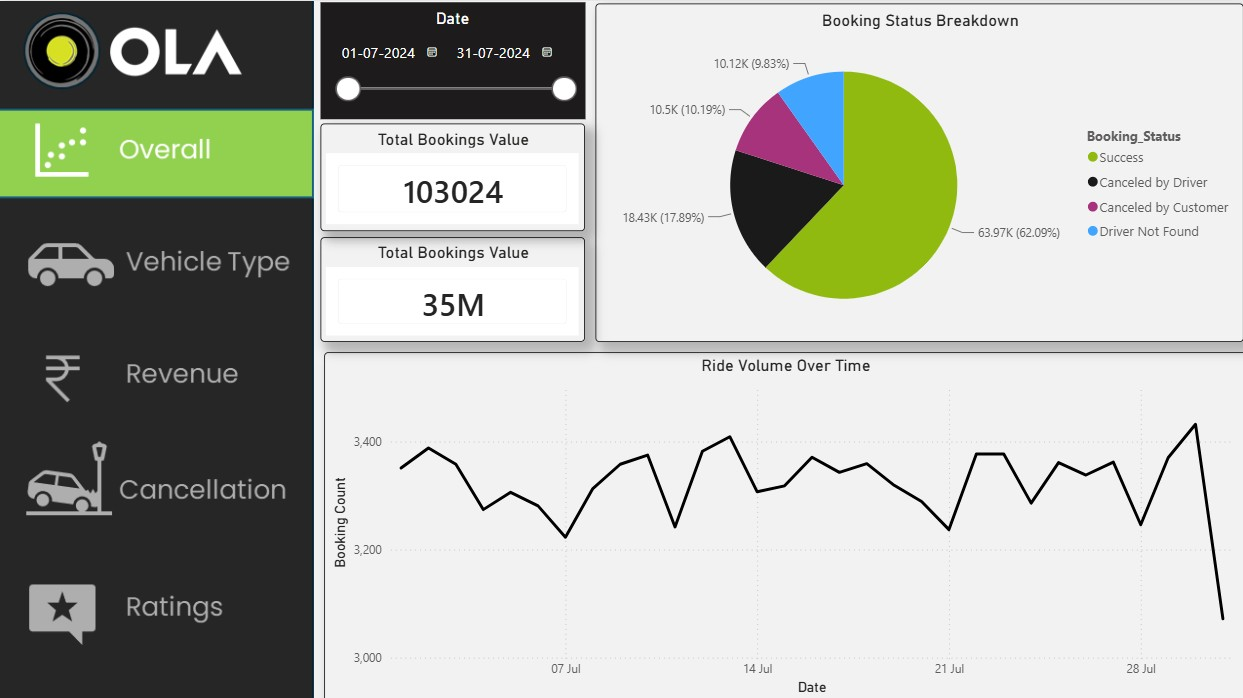

The dashboard page shown, as its layout file describes it:
{"tool":"powerbi","page":{"name":"Overall","canvas":[1280,720],"ordinal":0},"visuals":[{"type":"actionButton","box":[0,219.6,323.9,90.8],"z":0},{"type":"actionButton","box":[0,219.6,323.9,92],"z":1000},{"type":"lineChart","title":"Ride Volume Over Time","fields":{"Y":["CountNonNull(ola data set.Booking_ID)"],"Category":["ola data set.Date"]},"box":[334.3,360,945.7,360],"z":2000},{"type":"pieChart","title":"Booking Status Breakdown","fields":{"Category":["ola data set.Booking_Status"],"Y":["CountNonNull(ola data set.Booking_Status)"]},"box":[612.5,2.5,665,347.5],"z":3000},{"type":"slicer","title":"Date","fields":{"Values":["ola data set.Date"]},"box":[331.3,1.2,271.2,119],"z":4000},{"type":"cardVisual","title":"Total Bookings Value","fields":{"Data":["CountNonNull(ola data set.Booking_ID)"]},"box":[331.2,126.2,271.2,110],"z":5000},{"type":"cardVisual","title":"Total Bookings Value","fields":{"Data":["Sum(ola data set.Booking_Value)"]},"box":[331.2,242.5,271.2,107.5],"z":6000}]}

Visuals, with their boxes in screenshot pixels (x1, y1, x2, y2), scaled from the page's 1280x720 canvas onto the 1243x698 screenshot:
actionButton: locate(0, 213, 315, 301)
actionButton: locate(0, 213, 315, 302)
"Ride Volume Over Time" lineChart: locate(325, 349, 1242, 697)
"Booking Status Breakdown" pieChart: locate(595, 2, 1241, 339)
"Date" slicer: locate(322, 1, 585, 117)
"Total Bookings Value" cardVisual: locate(322, 122, 585, 229)
"Total Bookings Value" cardVisual: locate(322, 235, 585, 339)
